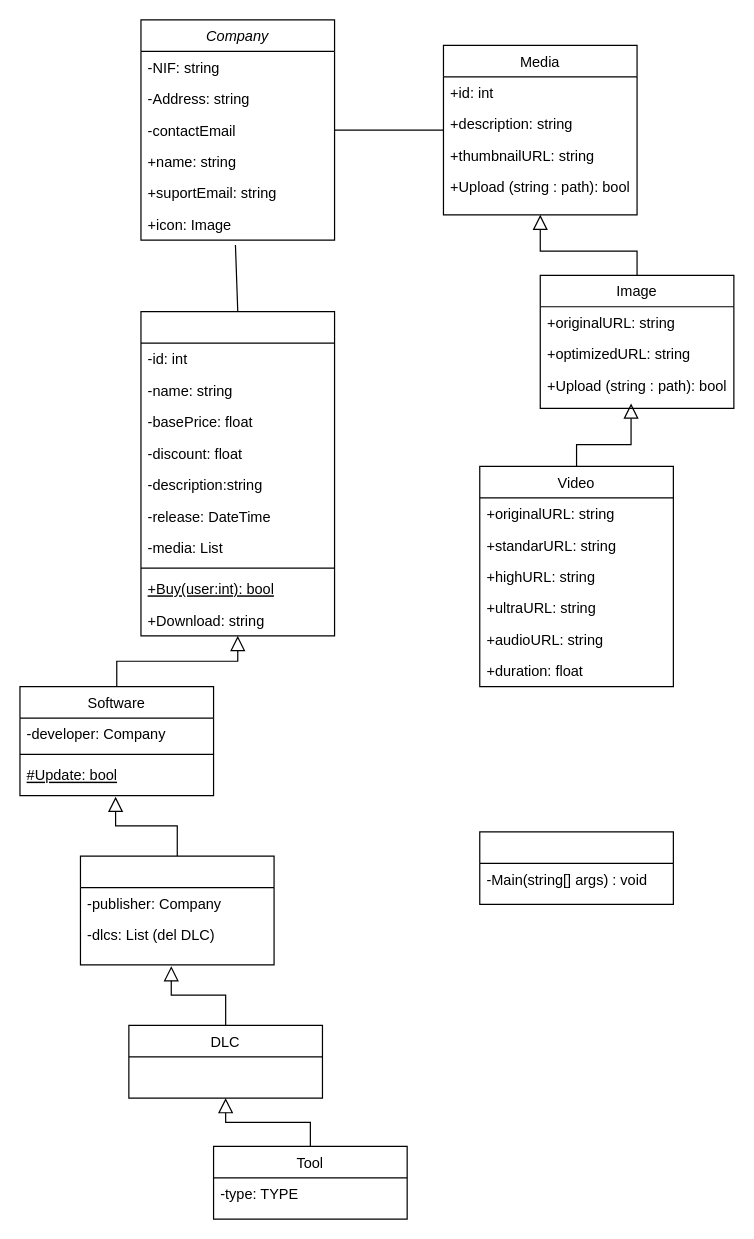
Image size: 754x1239. Some labels were removed from this diagram. Each missing label, with the box of its shape:
Game: (79, 855, 274, 965)
Product: (140, 310, 335, 636)
Program: (479, 831, 673, 904)
